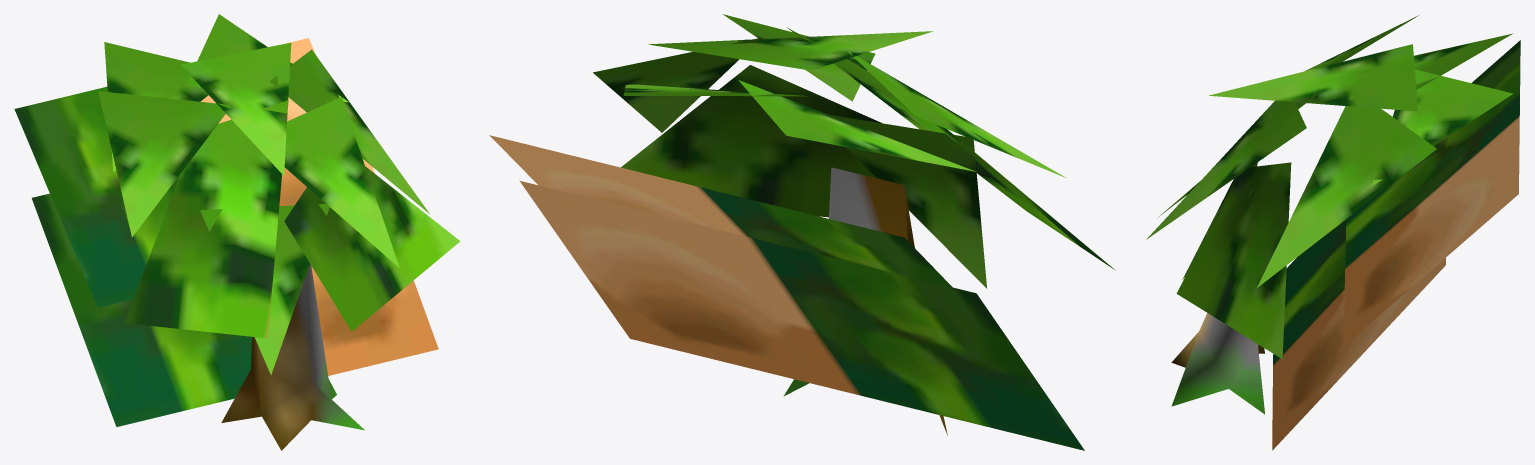
Rendered from fg_bushD_1.dae.
The picture shows the model from 3 angles, left to right: view 1: azimuth 30°, elevation 25°; view 2: azimuth 150°, elevation 25°; view 3: azimuth 270°, elevation 25°; orthographic projection. The views are drawn at different scales.
Visible parts, largest first — view 1: fg_bushD_1; view 2: fg_bushD_1; view 3: fg_bushD_1.
Boxes of the visible parts, box(x1,y1,x2,y2) form: fg_bushD_1: box(14, 14, 460, 450); fg_bushD_1: box(489, 14, 1115, 450); fg_bushD_1: box(1146, 15, 1520, 450).
Bounding box in the file's own units: 30.28 × 24.56 × 25.75.
1 material, 1 textured.
